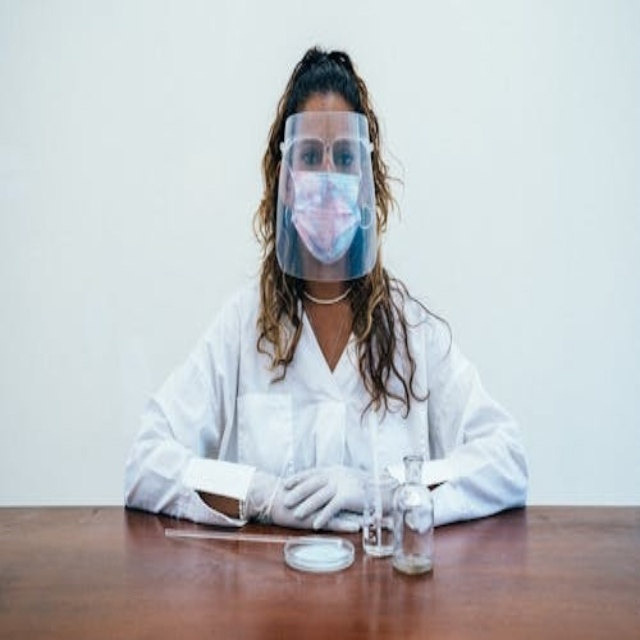Gafas: (283, 127, 371, 174)
Guantes: (254, 464, 375, 532)
Mascara: (287, 167, 365, 262)
